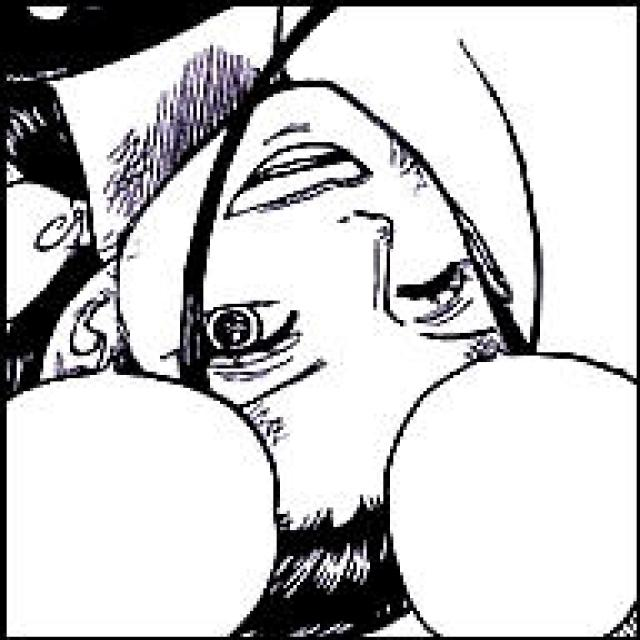Robin: (4, 0, 634, 637)
